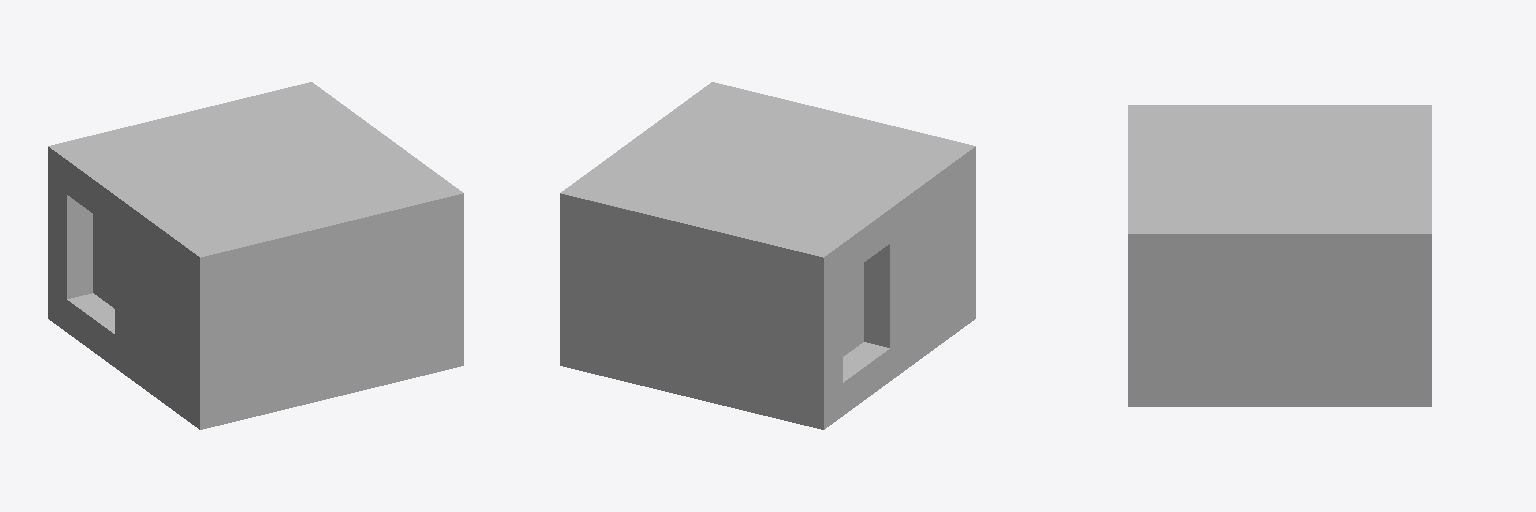
3 renders of one model, left to right at view 1: azimuth 30°, elevation 25°; view 2: azimuth 150°, elevation 25°; view 3: azimuth 270°, elevation 25°, orthographic.
Visible parts, largest first — view 1: G-__556104_G-__556104_Brick, G-__556104_G-__556104_Glass; view 2: G-__556104_G-__556104_Brick, G-__556104_G-__556104_Glass; view 3: G-__556104_G-__556104_Brick.
Boxes of the visible parts, x1=… form: G-__556104_G-__556104_Brick: x1=48, y1=82, x2=463, y2=429; G-__556104_G-__556104_Glass: x1=93, y1=214, x2=114, y2=308; G-__556104_G-__556104_Brick: x1=560, y1=82, x2=975, y2=429; G-__556104_G-__556104_Glass: x1=843, y1=263, x2=863, y2=356; G-__556104_G-__556104_Brick: x1=1128, y1=105, x2=1431, y2=406.
Size of the model in its own units: 1 by 0.625 by 1.